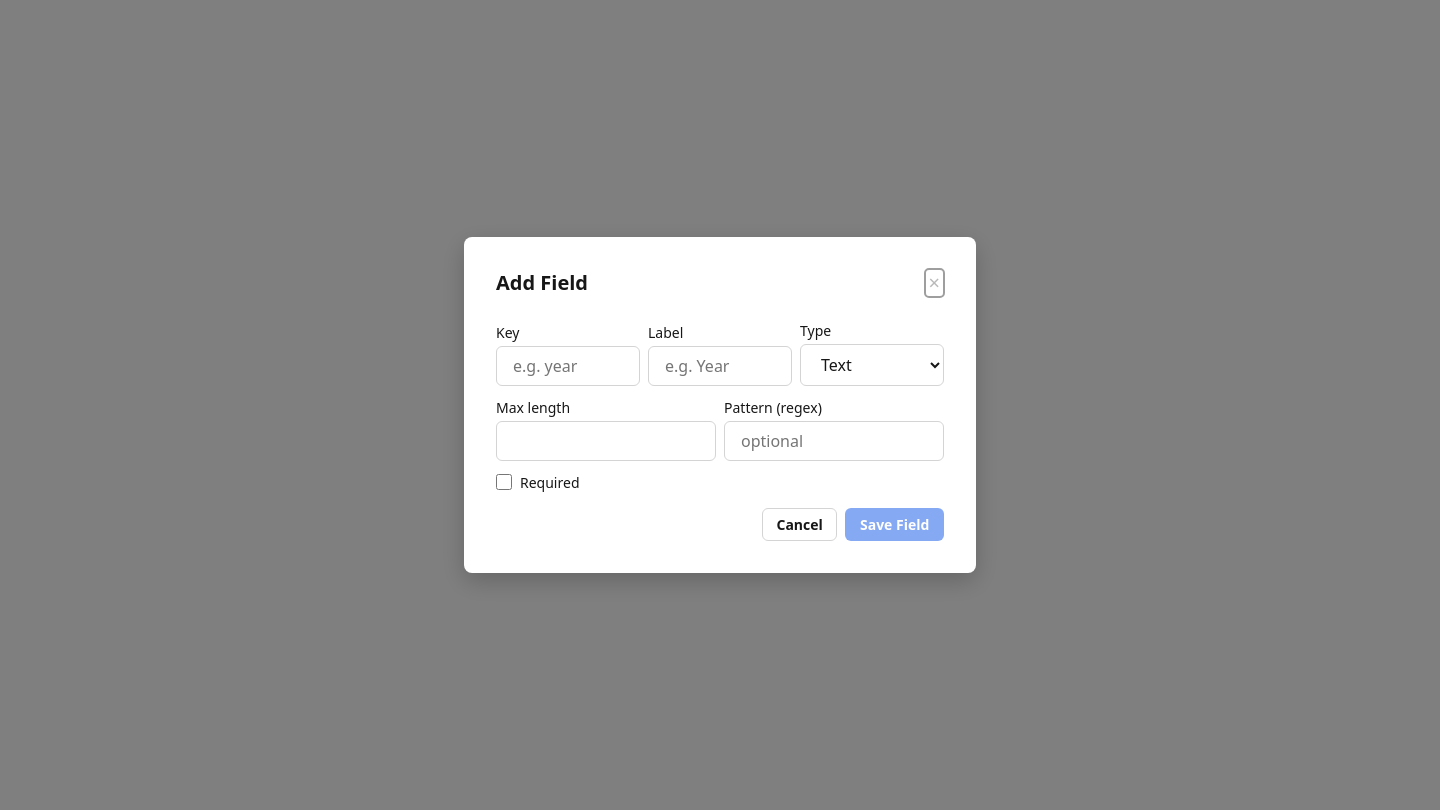
Test case: MetadataFieldModal › requires at least one option for a select
Type "codec" into the field labelled "Key".
click(568, 366); type("codec")  # box left=496, top=346, right=640, bottom=386
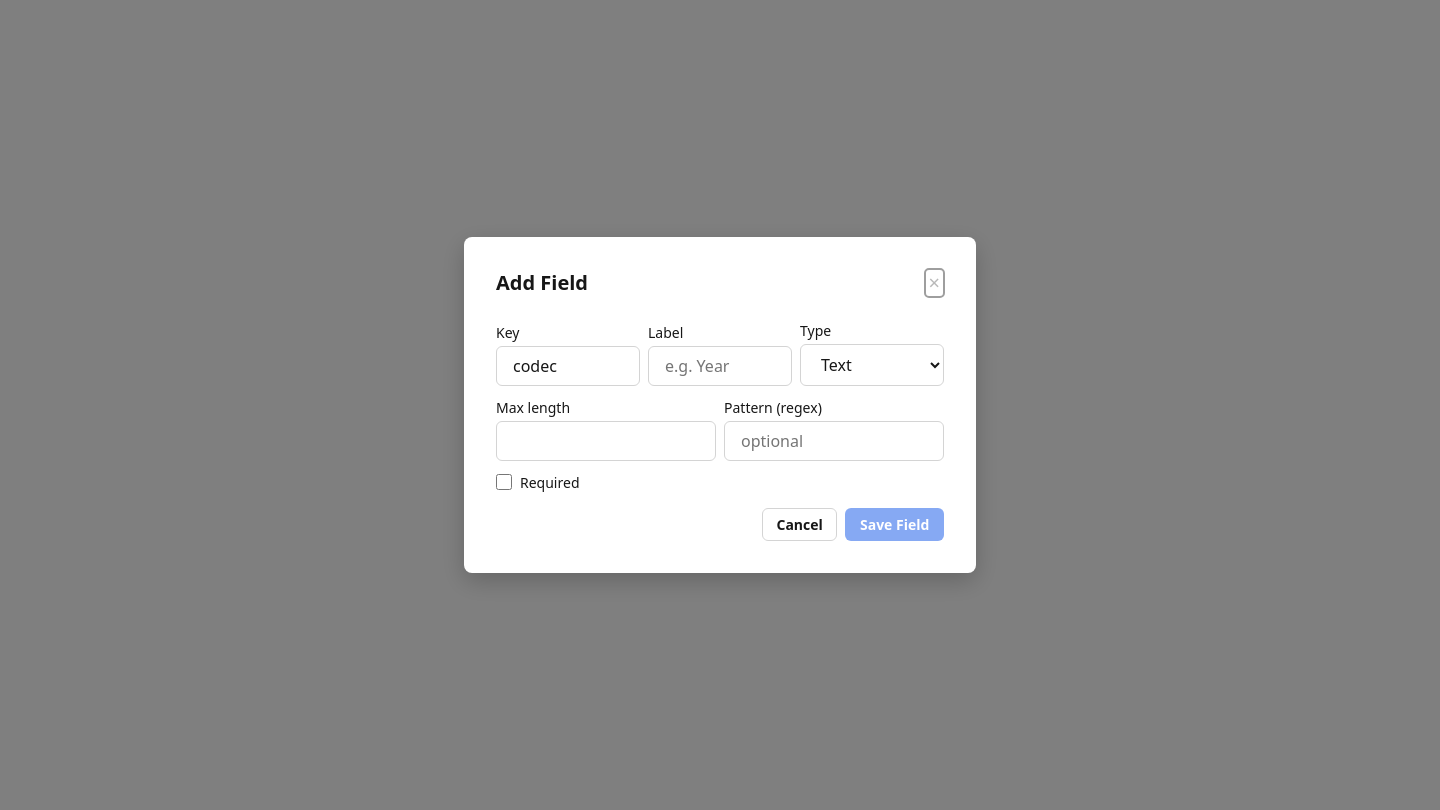
Type "Codec" into the field labelled "Label".
click(720, 366); type("Codec")  # box left=648, top=346, right=792, bottom=386
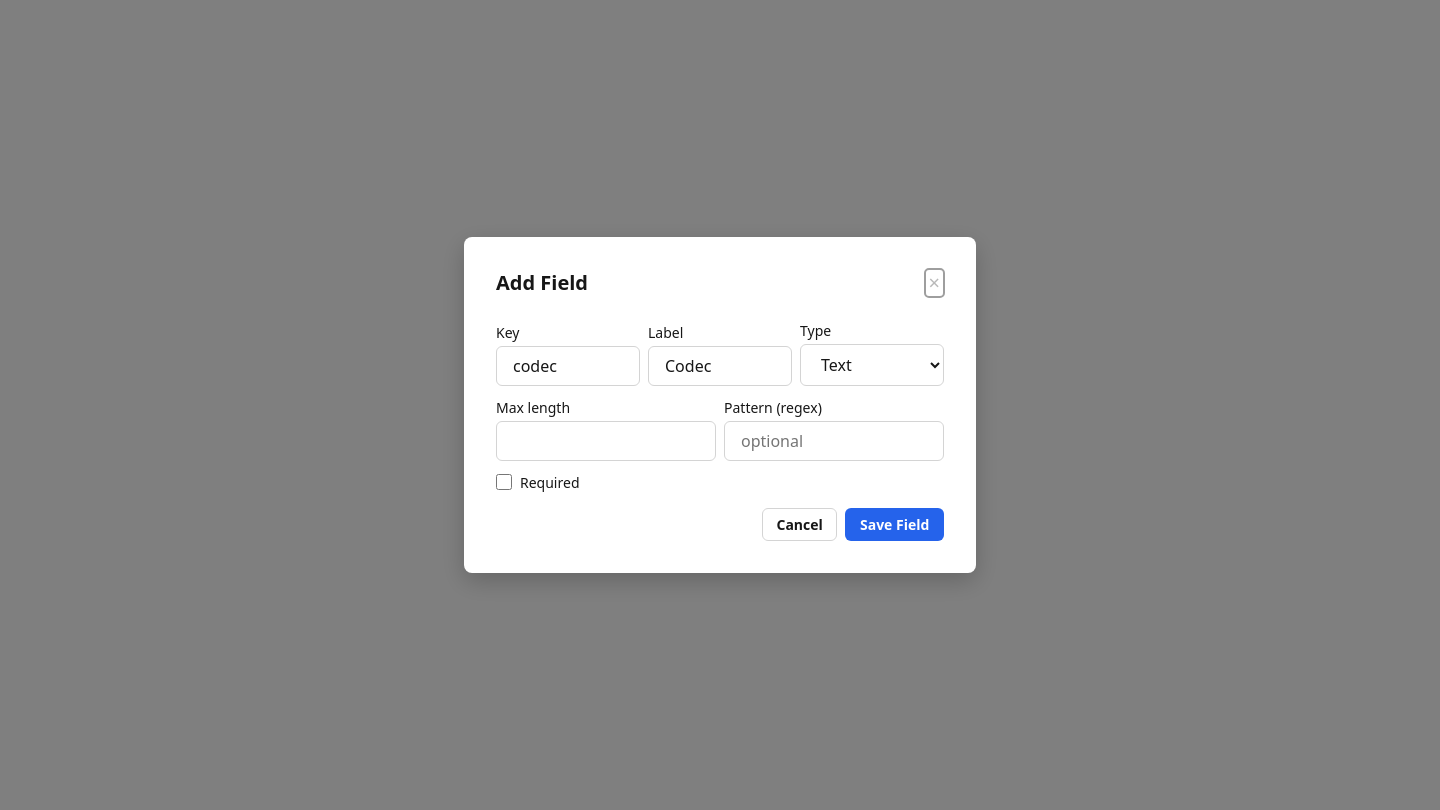
Select "Select (one)" in the dropdown labelled "Type" at (872, 365), box left=800, top=344, right=944, bottom=386
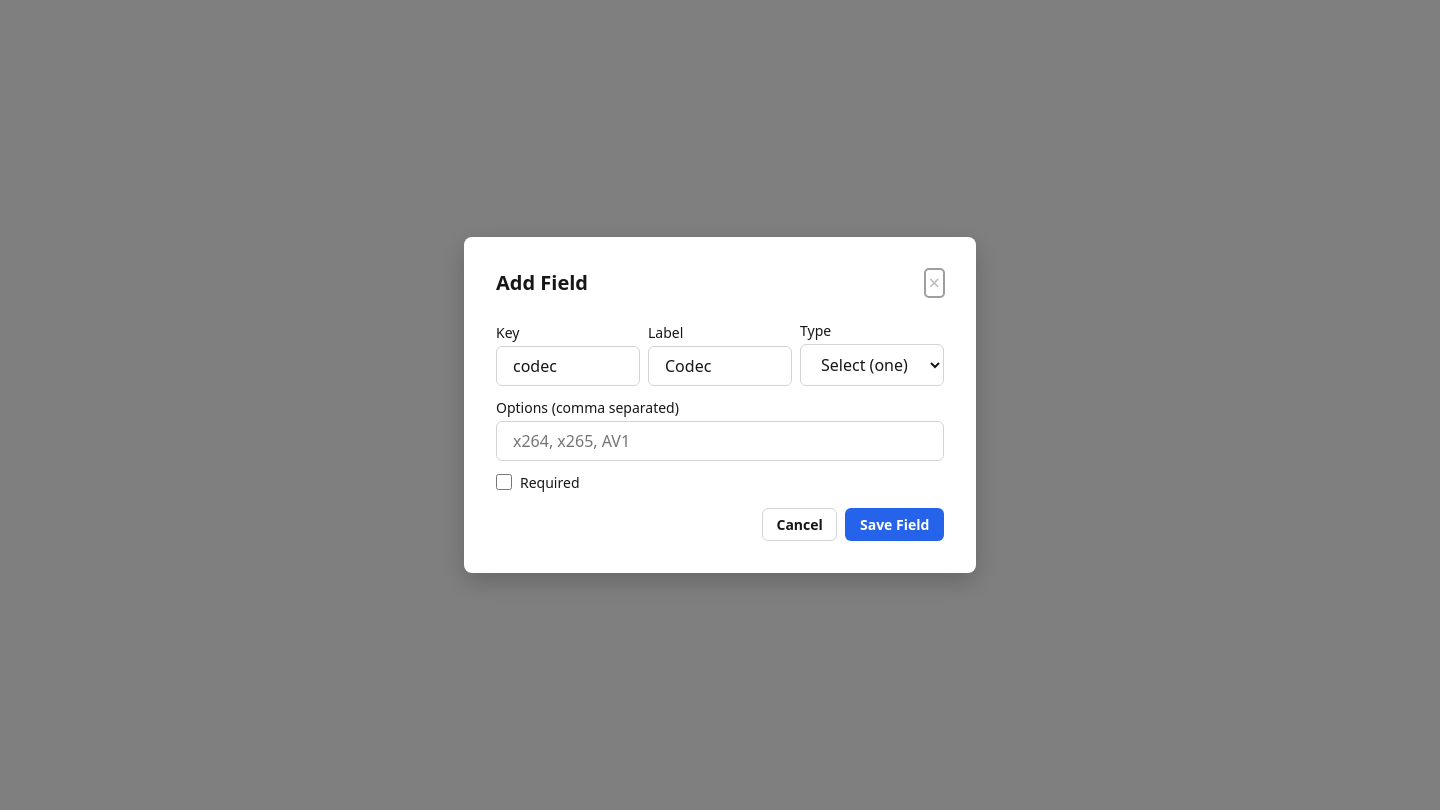
Click the button "Save Field".
click(895, 524)  # box left=845, top=508, right=944, bottom=541
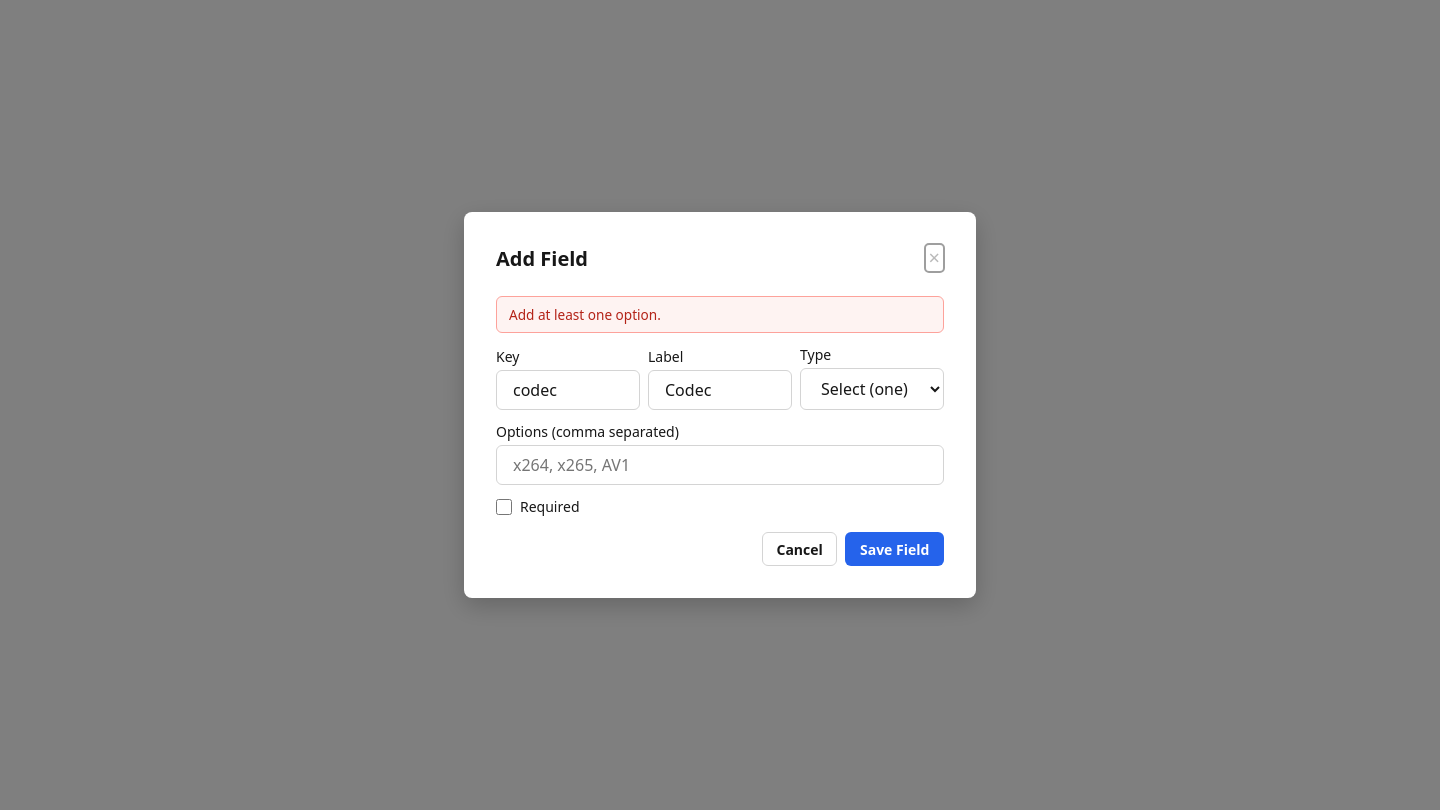
Check: the text "Add at least one option." is shown, box left=496, top=296, right=944, bottom=333
